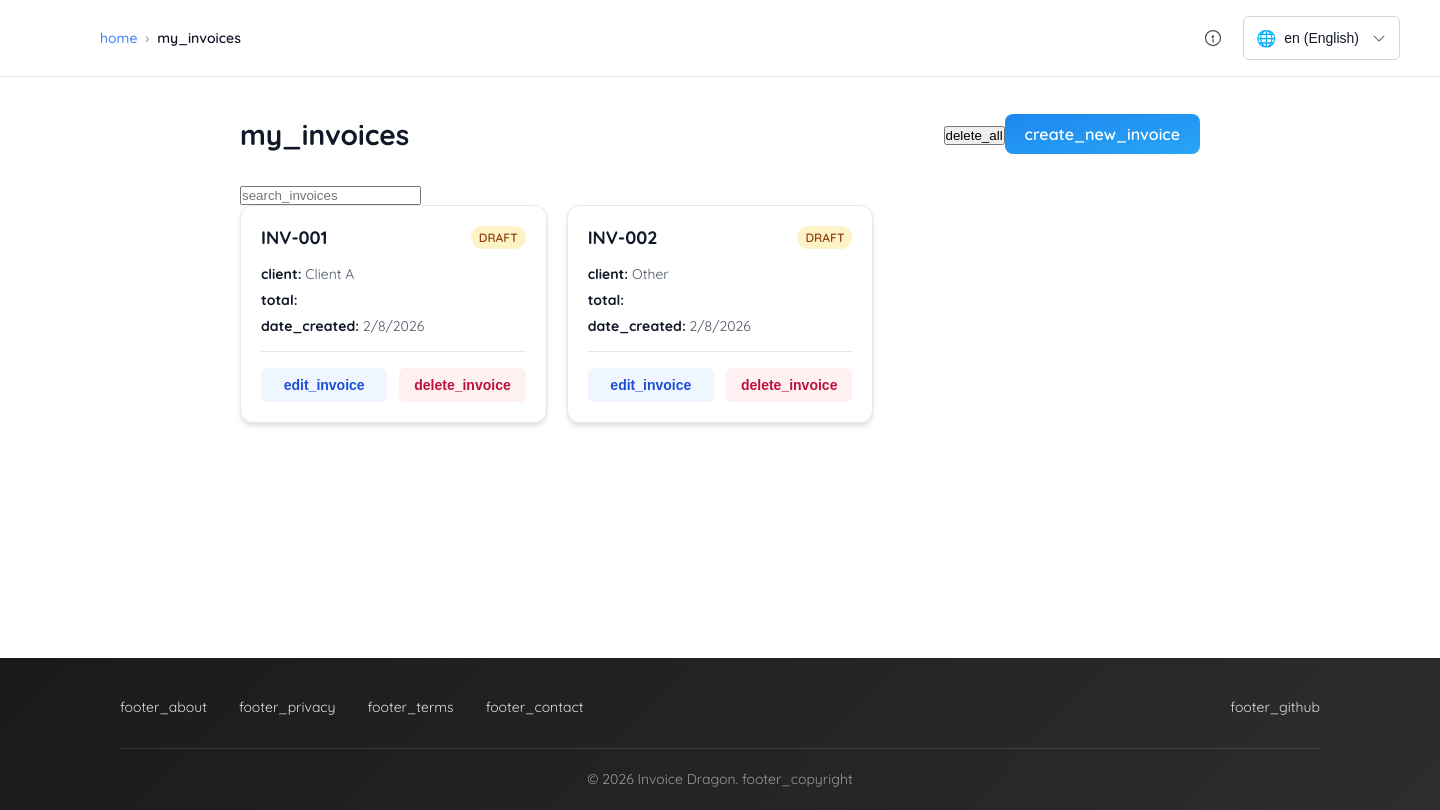
Scenario: Invoices Page › filters invoices by search term
Type "Client" into the field with placeholder "search_invoices" at (330, 196), box [240,186,421,205]
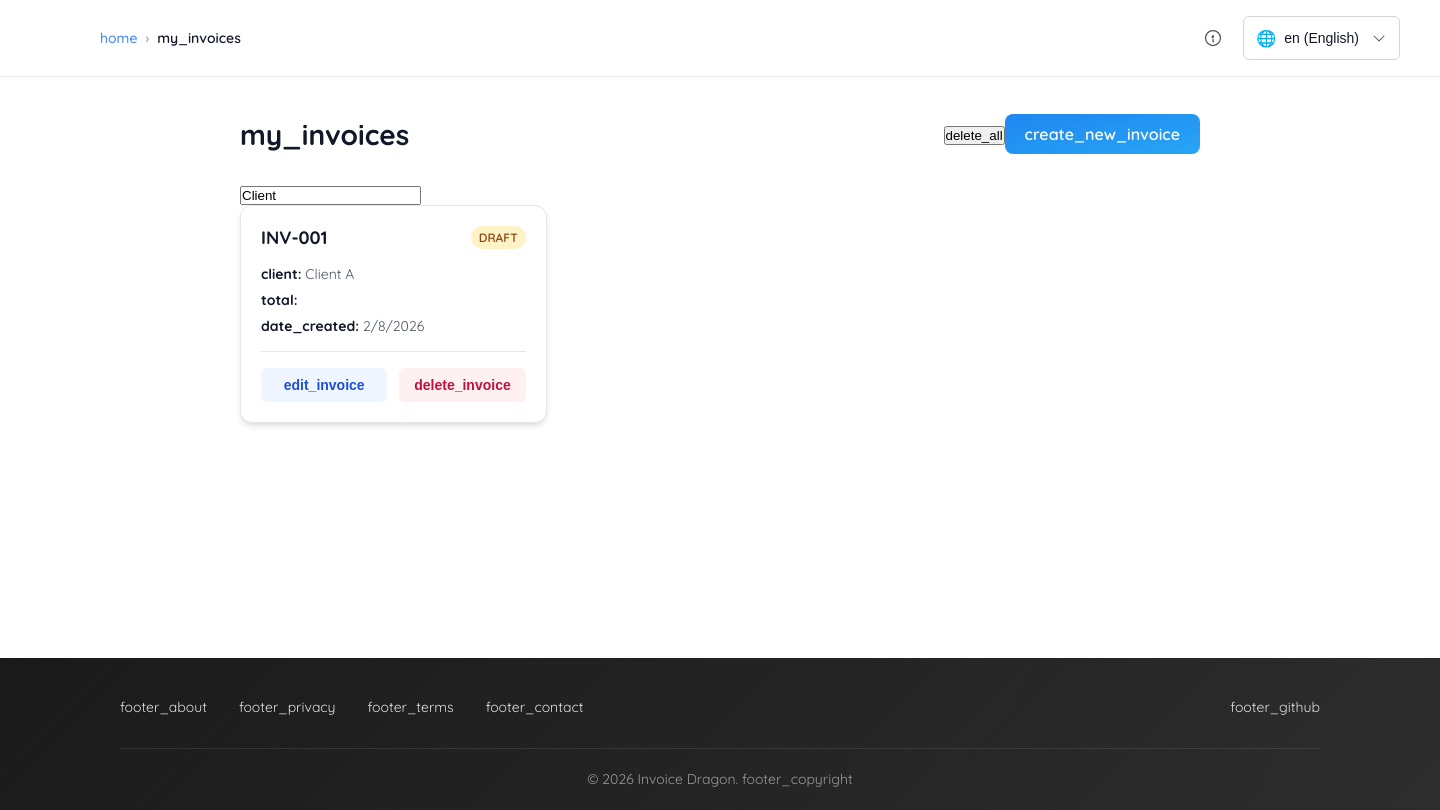
Check: the text "INV-001" is shown, box [261,226,328,249]
Check: the text "INV-002" is gone
Replace the text in the field with placeholder "search_invoices" with "NonExistent" at (330, 196), box [240,186,421,205]
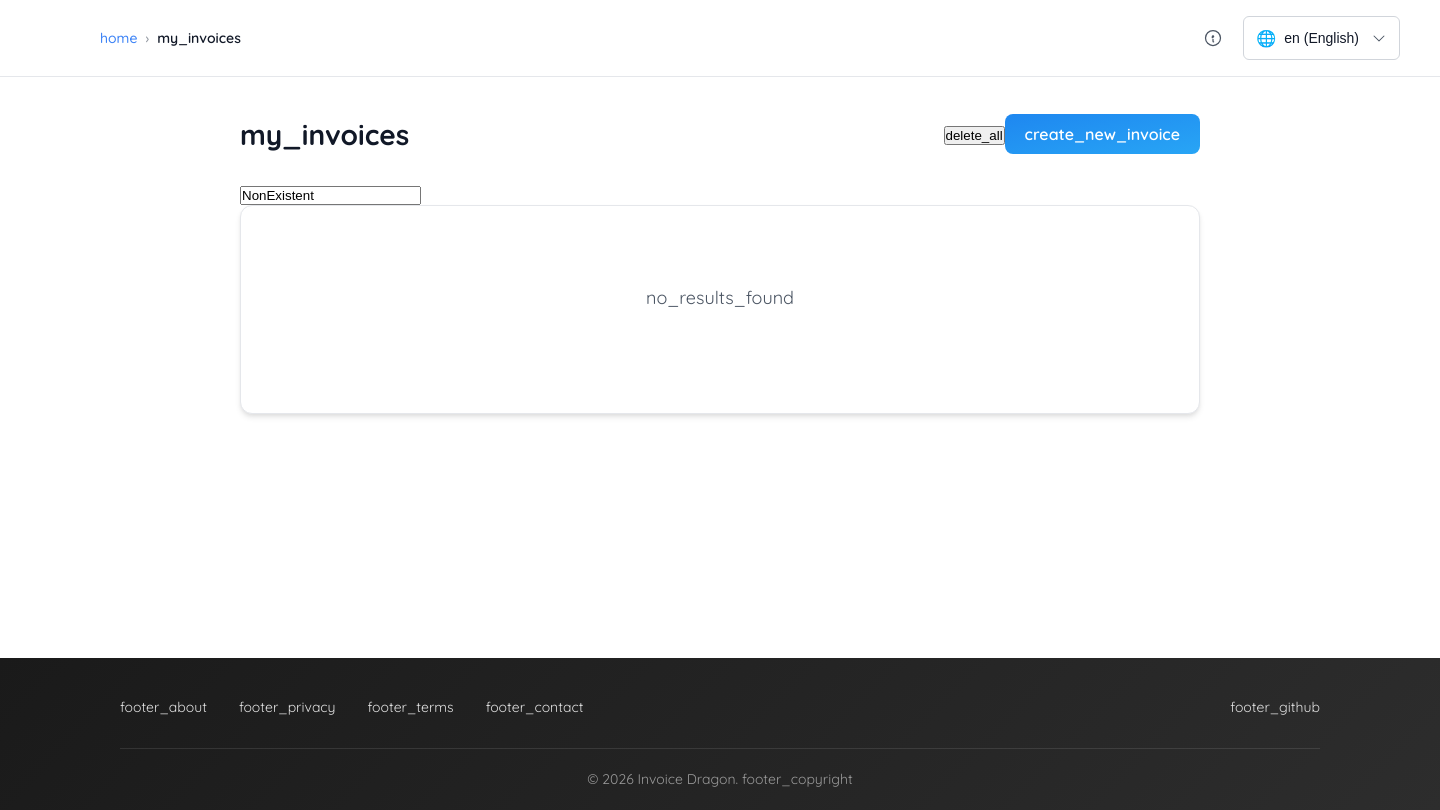
Check: the text "no_results_found" is shown, box [646,286,794,309]
